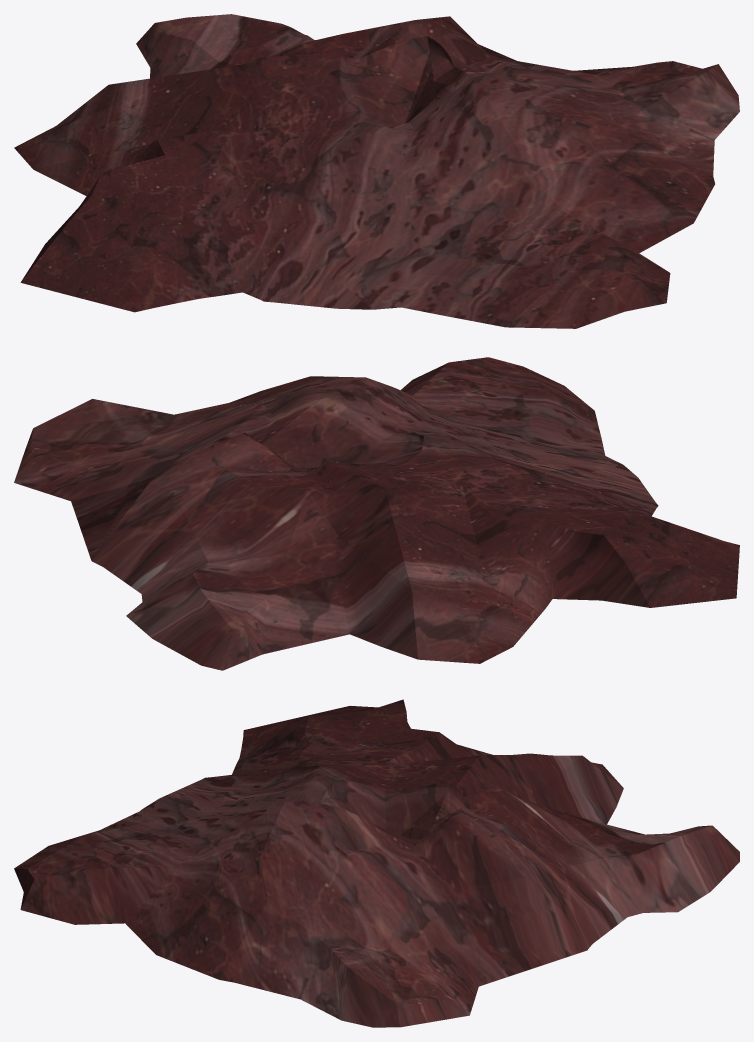
The model's file is Mass.fbx.
3 views of the same model, one above another, from view 1: azimuth 30°, elevation 25°; view 2: azimuth 150°, elevation 25°; view 3: azimuth 270°, elevation 25° (orthographic). The views are drawn at different scales.
Parts seen in each view (by area): view 1: Mass; view 2: Mass; view 3: Mass.
Part boxes in pixels (box(x1,y1,x2,y2)): Mass: box(14, 14, 739, 328); Mass: box(14, 357, 739, 670); Mass: box(14, 699, 739, 1027).
Size of the model in its own units: 4.25 by 0.5851 by 4.05.
